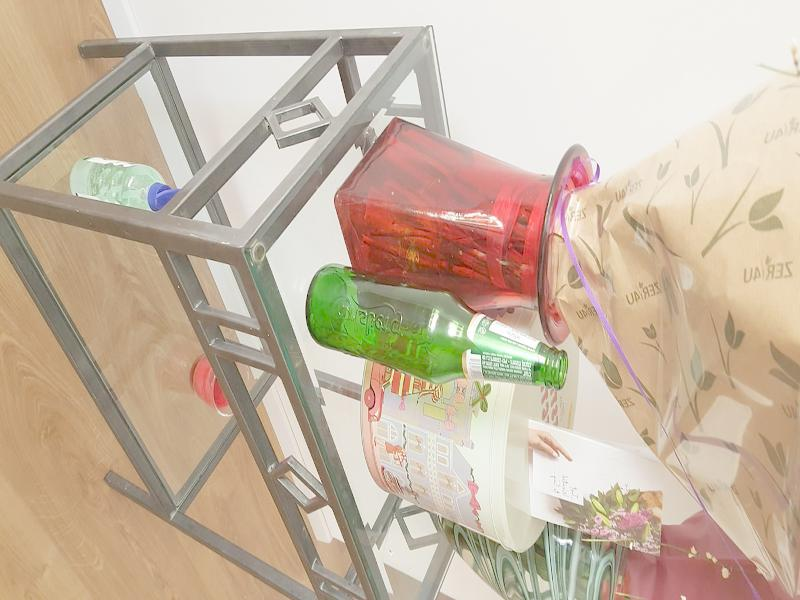Beer: (304, 265, 569, 387)
